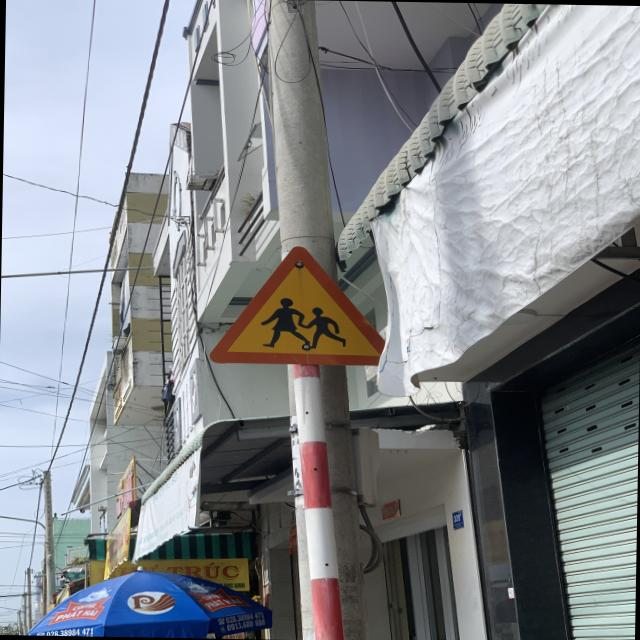Vong_Xuyen: (212, 244, 388, 366)
